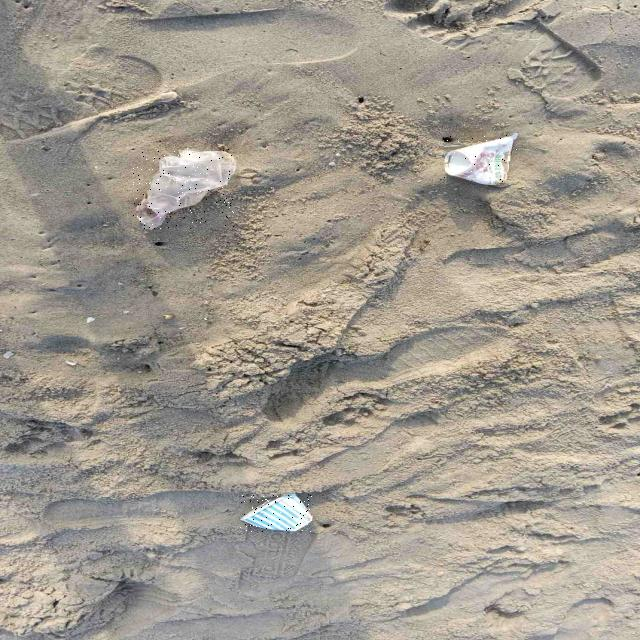paper: (444, 134, 517, 184), (240, 495, 312, 531)
plastic: (134, 149, 234, 229)
